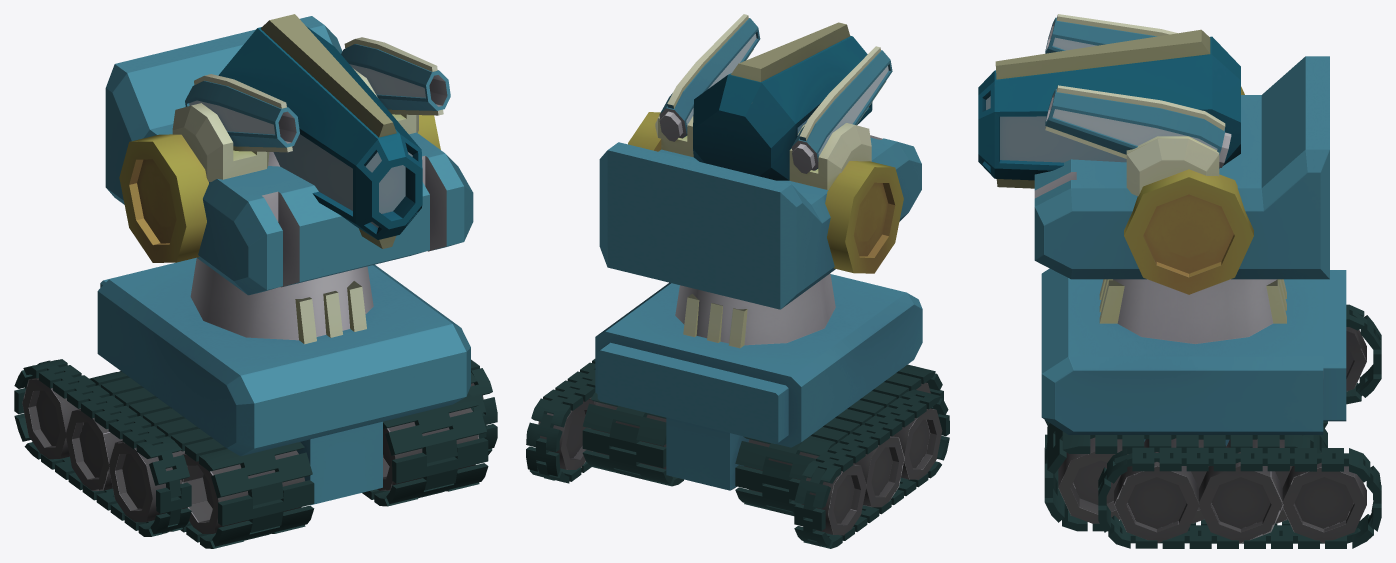
Rendered from player_idle_2_upgrade0.obj.
3 renders of one model, left to right at view 1: azimuth 30°, elevation 25°; view 2: azimuth 150°, elevation 25°; view 3: azimuth 270°, elevation 25°, orthographic. The views are drawn at different scales.
Visible parts, largest first — view 1: Object004, Box038, Object012, Box043, Object013, Box042, Object011, Box044; view 2: Object004, Object012, Box043, Box038, Object013, Box042, Box044, Object014, Object011; view 3: Object004, Object014, Box044, Object012, Box042, Object011, Box043, Object013.
Boxes of the visible parts, left/top/right/bottom form: Object004: left=97, top=14, right=473, bottom=505; Box038: left=89, top=371, right=314, bottom=548; Object012: left=185, top=37, right=450, bottom=152; Box043: left=14, top=359, right=191, bottom=536; Object013: left=22, top=378, right=182, bottom=522; Box042: left=362, top=393, right=488, bottom=506; Object011: left=174, top=408, right=478, bottom=533; Box044: left=468, top=359, right=497, bottom=454; Object004: left=595, top=22, right=922, bottom=490; Object012: left=659, top=14, right=892, bottom=173; Box043: left=794, top=389, right=949, bottom=548; Box038: left=735, top=364, right=943, bottom=515; Object013: left=801, top=408, right=942, bottom=535; Box042: left=582, top=392, right=683, bottom=486; Box044: left=526, top=359, right=596, bottom=483; Object014: left=538, top=397, right=596, bottom=469; Object011: left=591, top=382, right=930, bottom=500; Object004: left=978, top=29, right=1346, bottom=446; Object014: left=1114, top=452, right=1366, bottom=543; Box044: left=1098, top=447, right=1381, bottom=548; Object012: left=1045, top=14, right=1231, bottom=167; Box042: left=1044, top=423, right=1327, bottom=531; Object011: left=1058, top=437, right=1292, bottom=523; Box043: left=1346, top=304, right=1381, bottom=404; Object013: left=1346, top=327, right=1366, bottom=391.
Size of the model in its own units: 139 by 178 by 149.
4 materials, 2 textured.
